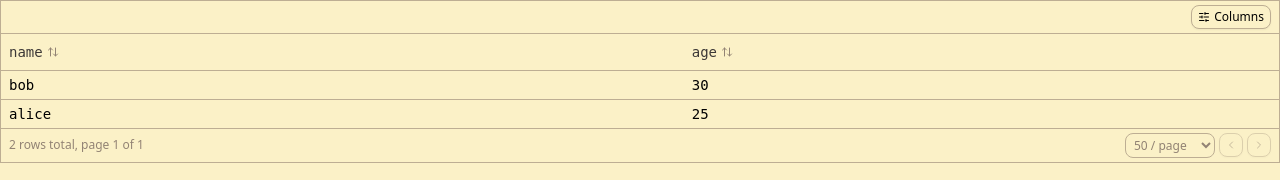
it: DataFrameTable › hides a column's cells when it's unchecked from the columns menu
Press the mouse on the button "Columns" at (1231, 17), box [1191,5,1271,29]
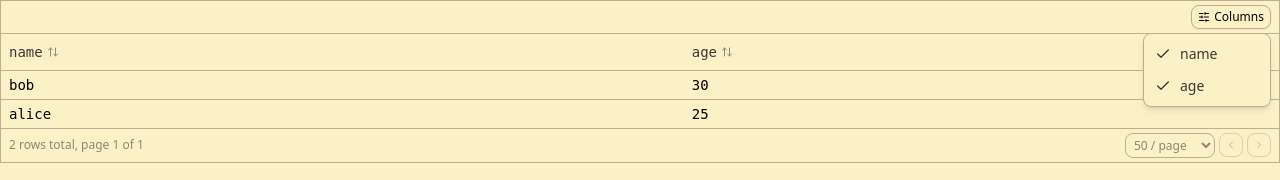
Click the menu item "age" at (1180, 86), box [1155,76,1204,95]
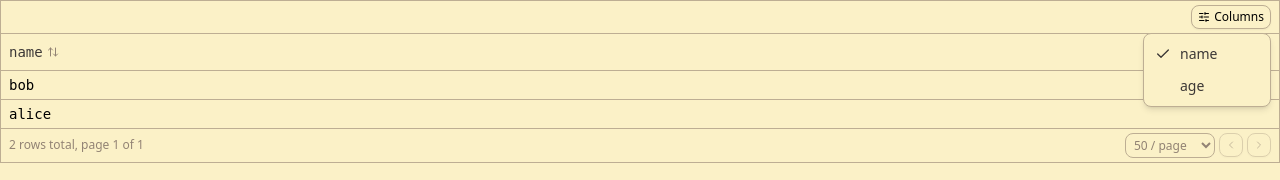
Expected: the text "bob" is shown, [1,70,1279,99]
Now the text "30" is gone
